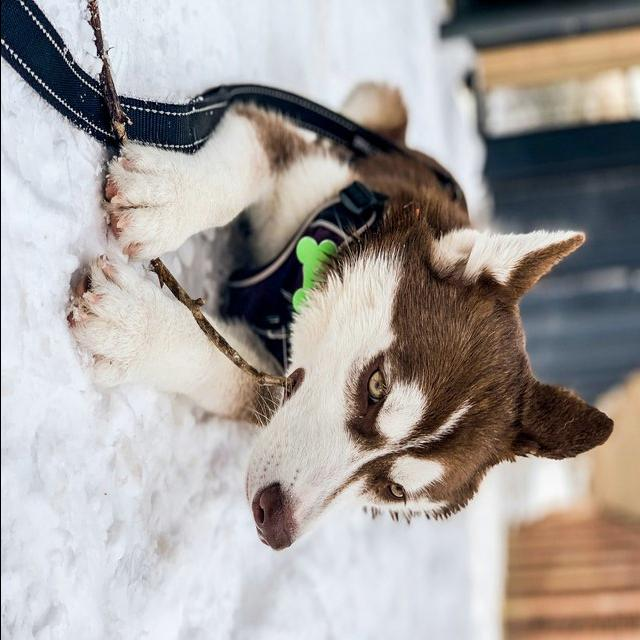husky: (66, 80, 615, 551)
